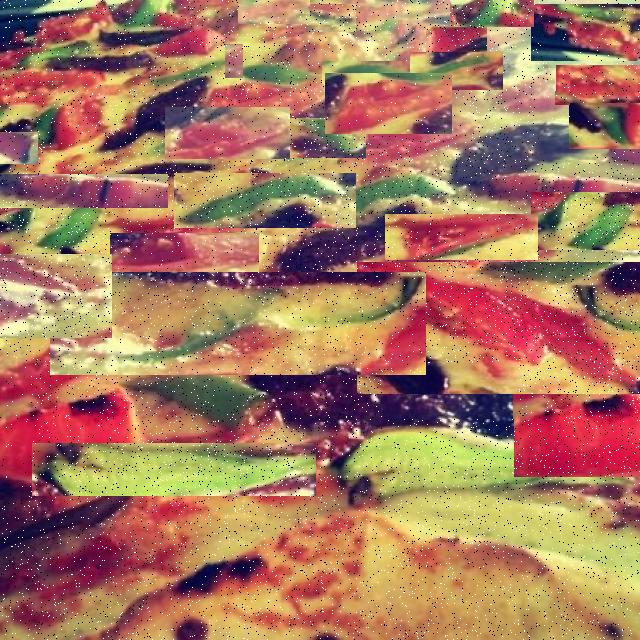Green Pepper: (50, 272, 426, 375), (32, 443, 316, 498), (174, 173, 356, 228), (384, 363, 520, 419), (531, 192, 640, 250), (550, 31, 634, 91), (410, 52, 503, 90), (0, 202, 96, 237), (570, 103, 640, 149), (290, 118, 366, 158), (409, 136, 495, 163), (450, 0, 534, 27), (322, 61, 417, 84), (306, 4, 356, 32), (76, 15, 118, 46)
Pizza: (0, 0, 640, 640)
Tomato: (357, 262, 640, 394), (514, 388, 640, 477), (0, 254, 112, 338), (325, 74, 452, 136), (23, 58, 146, 117), (385, 214, 538, 260), (165, 107, 290, 159), (531, 4, 640, 61), (110, 233, 259, 273), (0, 174, 168, 208), (0, 356, 30, 496), (540, 91, 596, 161), (556, 65, 640, 105), (426, 27, 487, 56), (238, 0, 310, 24), (0, 132, 38, 164), (225, 44, 243, 78), (147, 28, 200, 36)
